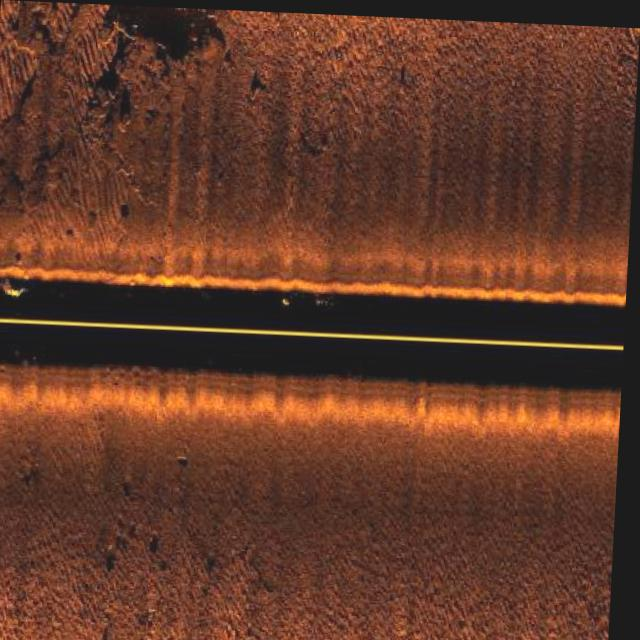mine: (248, 66, 263, 103), (178, 451, 196, 468)
